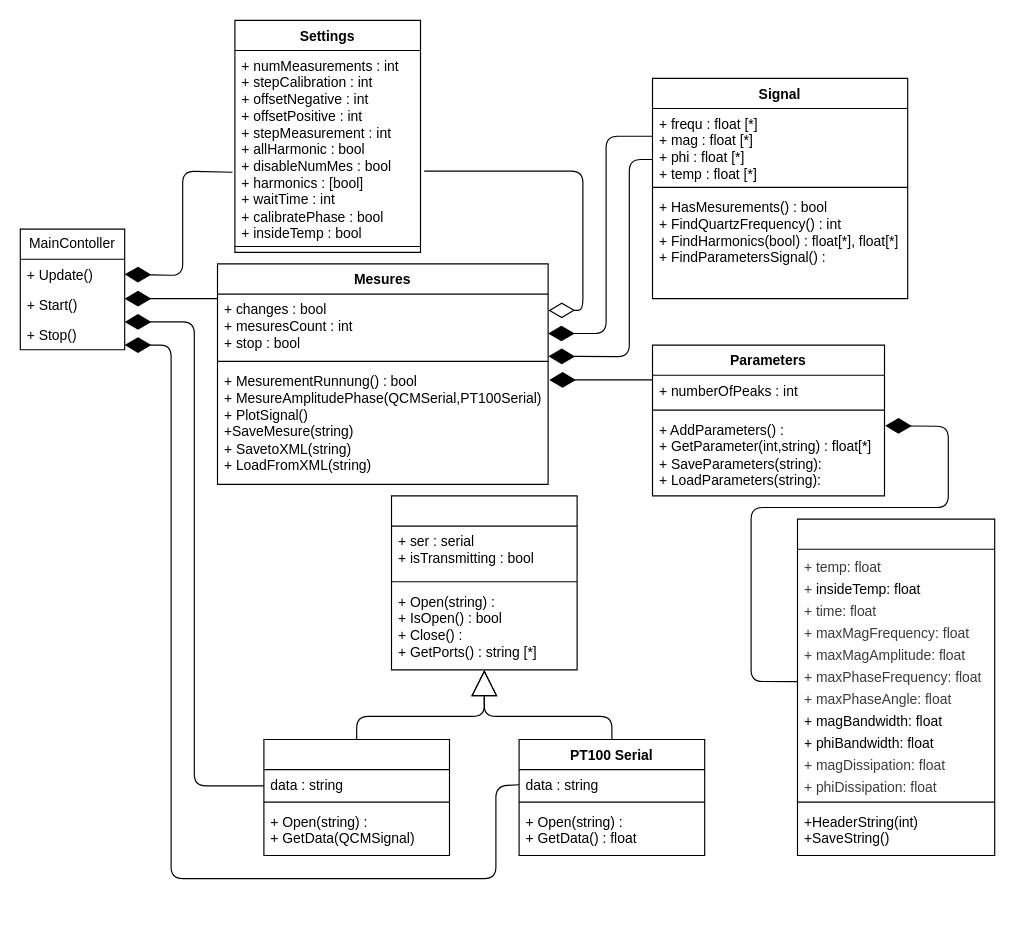
Some shapes in this 1015 by 925 pixel diagram are drawn without their labels. Here are the shapes that lost their labels. From the top down, the box of each, then its label:
(390, 495, 577, 670): Serial Connection
(796, 518, 995, 855): Parameter
(263, 738, 449, 855): QCM Serial
